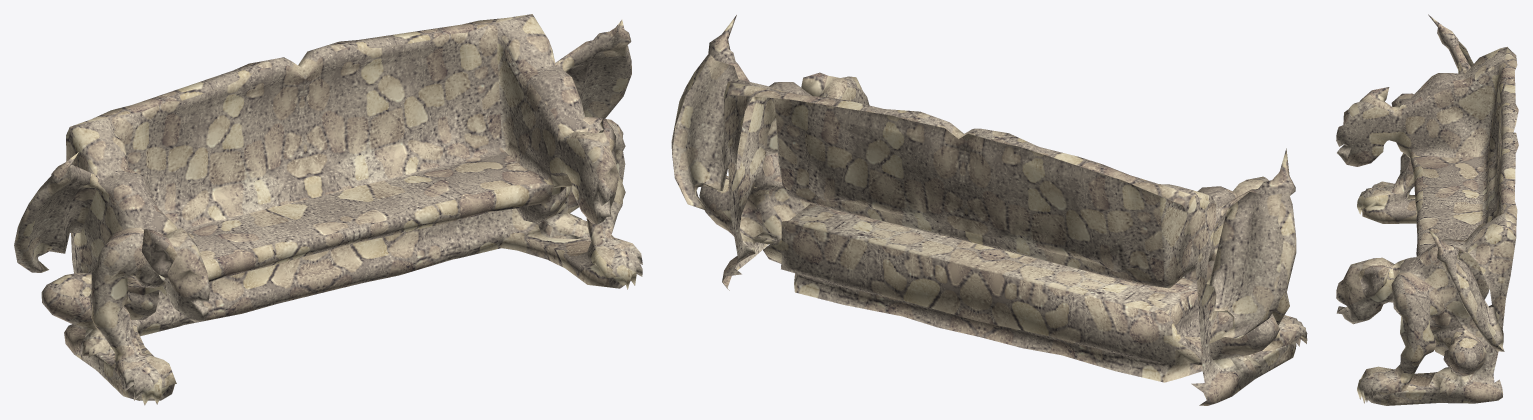
The model's file is SM_Bench.fbx.
3 views of the same model, side by side, from view 1: azimuth 30°, elevation 25°; view 2: azimuth 150°, elevation 25°; view 3: azimuth 270°, elevation 25° (orthographic). The views are drawn at different scales.
Visible parts, largest first — view 1: Merged_bench1; view 2: Merged_bench1; view 3: Merged_bench1.
Boxes of the visible parts, left/top/right/bottom form: Merged_bench1: left=14, top=14, right=642, bottom=405; Merged_bench1: left=671, top=15, right=1307, bottom=405; Merged_bench1: left=1336, top=14, right=1518, bottom=405.
Bounding box in the file's own units: 325 × 119 × 105.
